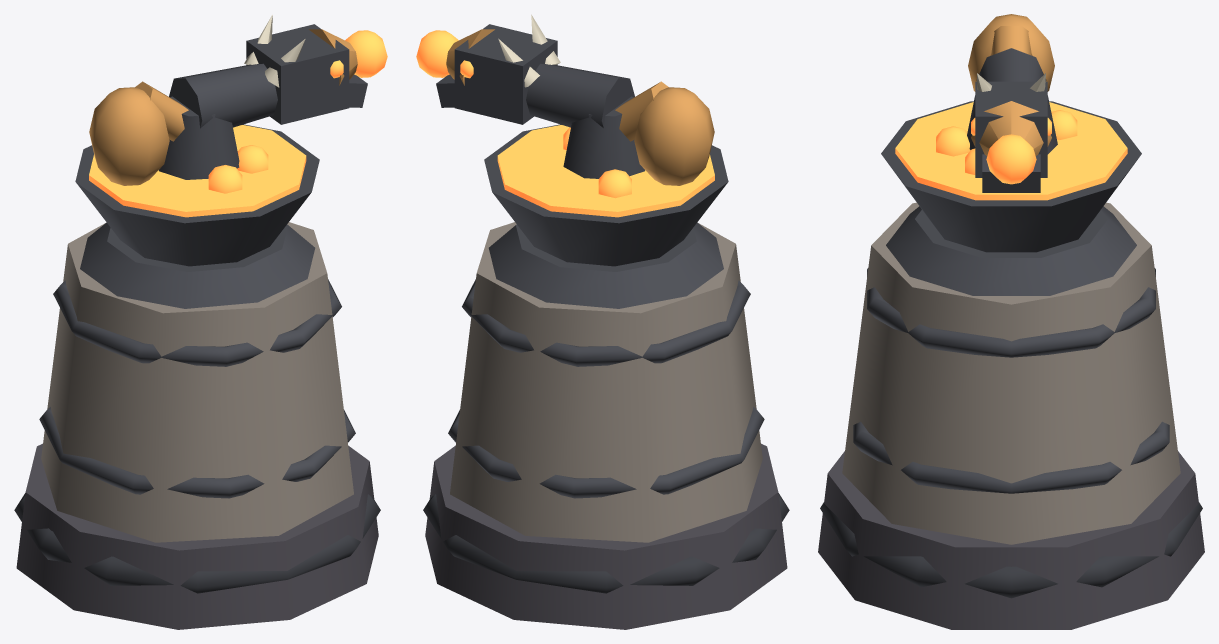
File: tower_flame.glb
3 views of the same model, side by side, from view 1: azimuth 30°, elevation 25°; view 2: azimuth 150°, elevation 25°; view 3: azimuth 270°, elevation 25° (orthographic). The views are drawn at different scales.
Visible parts, largest first — view 1: body, base, brazier_foot, brazier_bowl, coals, dragon_head, gas_tank, soot_ring, body_band_0.3, neck, body_band_0.15, nozzle_post (+5 smaller); view 2: body, base, brazier_foot, brazier_bowl, coals, dragon_head, gas_tank, soot_ring, body_band_0.3, neck, body_band_0.15, nozzle_post (+4 smaller); view 3: body, base, brazier_foot, brazier_bowl, coals, body_band_0.3, soot_ring, body_band_0.15, dragon_head, gas_tank, dragon_muzzle, muzzle_glow (+5 smaller).
Part boxes in pixels (bbox=[...]): body: bbox=[41, 222, 353, 542]; base: bbox=[16, 443, 378, 629]; brazier_foot: bbox=[80, 222, 315, 308]; brazier_bowl: bbox=[75, 124, 319, 266]; coals: bbox=[89, 125, 306, 217]; dragon_head: bbox=[246, 24, 349, 124]; gas_tank: bbox=[89, 87, 169, 185]; soot_ring: bbox=[14, 493, 380, 593]; body_band_0.3: bbox=[53, 279, 341, 366]; neck: bbox=[169, 63, 277, 128]; body_band_0.15: bbox=[39, 407, 355, 498]; nozzle_post: bbox=[159, 96, 239, 179]; body: bbox=[450, 222, 762, 542]; base: bbox=[425, 443, 787, 629]; brazier_foot: bbox=[488, 222, 723, 308]; brazier_bowl: bbox=[484, 124, 728, 266]; coals: bbox=[497, 125, 714, 217]; dragon_head: bbox=[454, 24, 557, 124]; gas_tank: bbox=[634, 87, 714, 185]; soot_ring: bbox=[423, 493, 789, 593]; body_band_0.3: bbox=[462, 279, 750, 366]; neck: bbox=[526, 63, 634, 128]; body_band_0.15: bbox=[448, 407, 764, 498]; nozzle_post: bbox=[563, 96, 644, 178]; body: bbox=[842, 202, 1180, 544]; base: bbox=[818, 451, 1204, 629]; brazier_foot: bbox=[886, 206, 1136, 295]; brazier_bowl: bbox=[881, 101, 1141, 252]; coals: bbox=[895, 102, 1127, 200]; body_band_0.3: bbox=[867, 268, 1155, 357]; soot_ring: bbox=[820, 502, 1202, 598]; body_band_0.15: bbox=[853, 421, 1169, 493]; dragon_head: bbox=[975, 81, 1047, 177]; gas_tank: bbox=[968, 14, 1054, 91]; dragon_muzzle: bbox=[971, 101, 1051, 155]; muzzle_glow: bbox=[986, 134, 1036, 184].
Size of the model in its own units: 0.432 by 0.6002 by 0.4.
